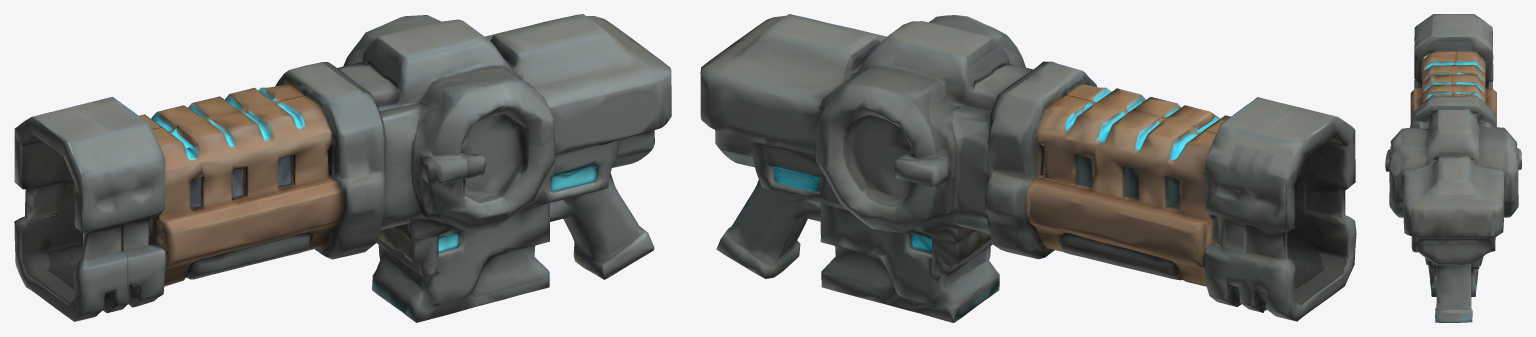
The model's file is plasma_rifle.glb.
The picture shows the model from 3 angles, left to right: view 1: azimuth 30°, elevation 25°; view 2: azimuth 150°, elevation 25°; view 3: azimuth 270°, elevation 25°; orthographic projection. The views are drawn at different scales.
Bounding box in the file's own units: 2 × 0.8748 × 0.6999.
1 material, 1 textured.
